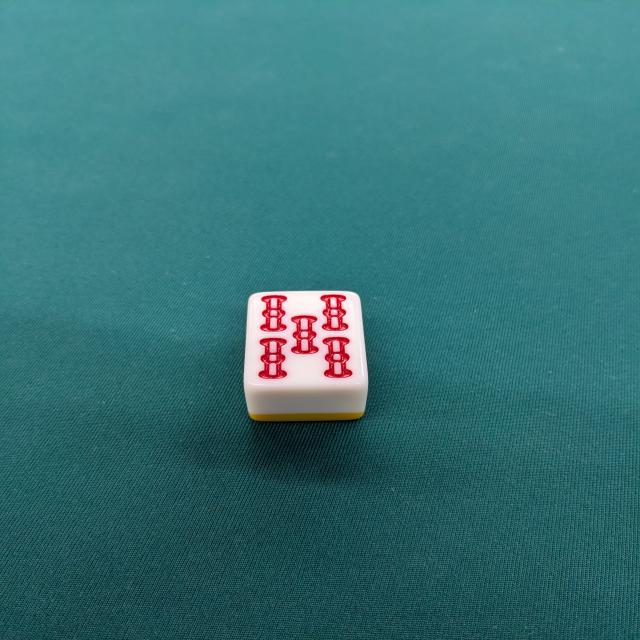D5s: (243, 290, 370, 425)
